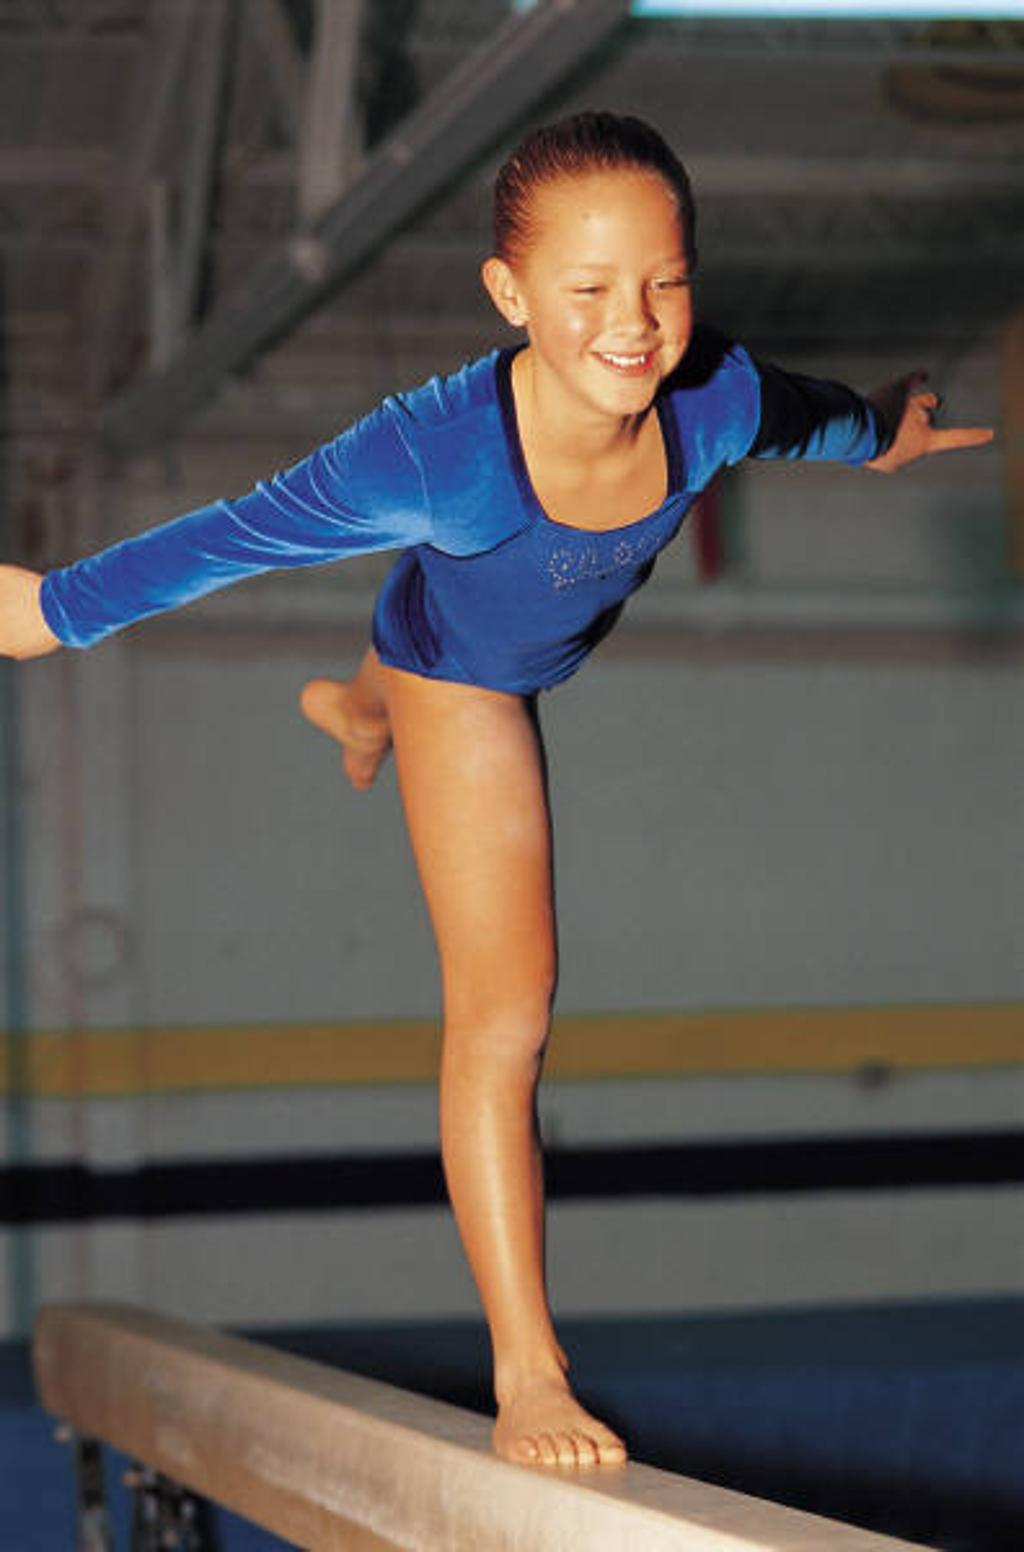face: (531, 162, 698, 423)
